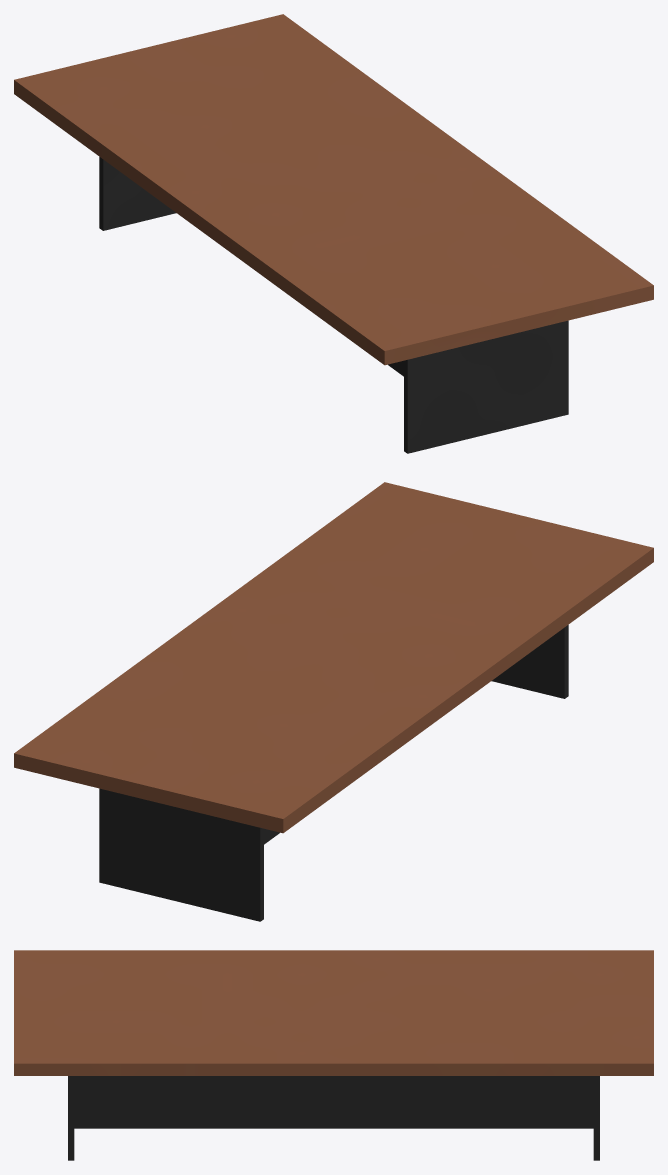
The model's file is Meeting_Table_02.fbx.
3 renders of one model, top to bottom at view 1: azimuth 30°, elevation 25°; view 2: azimuth 150°, elevation 25°; view 3: azimuth 270°, elevation 25°, orthographic. The views are drawn at different scales.
Parts seen in each view (by area): view 1: Meeting_Table_02; view 2: Meeting_Table_02; view 3: Meeting_Table_02.
Boxes of the visible parts, <box> form: Meeting_Table_02: <box>14,14,653,453</box>; Meeting_Table_02: <box>14,482,653,921</box>; Meeting_Table_02: <box>14,950,653,1160</box>.
Bounding box in the file's own units: 1.39 × 0.6867 × 3.32.
